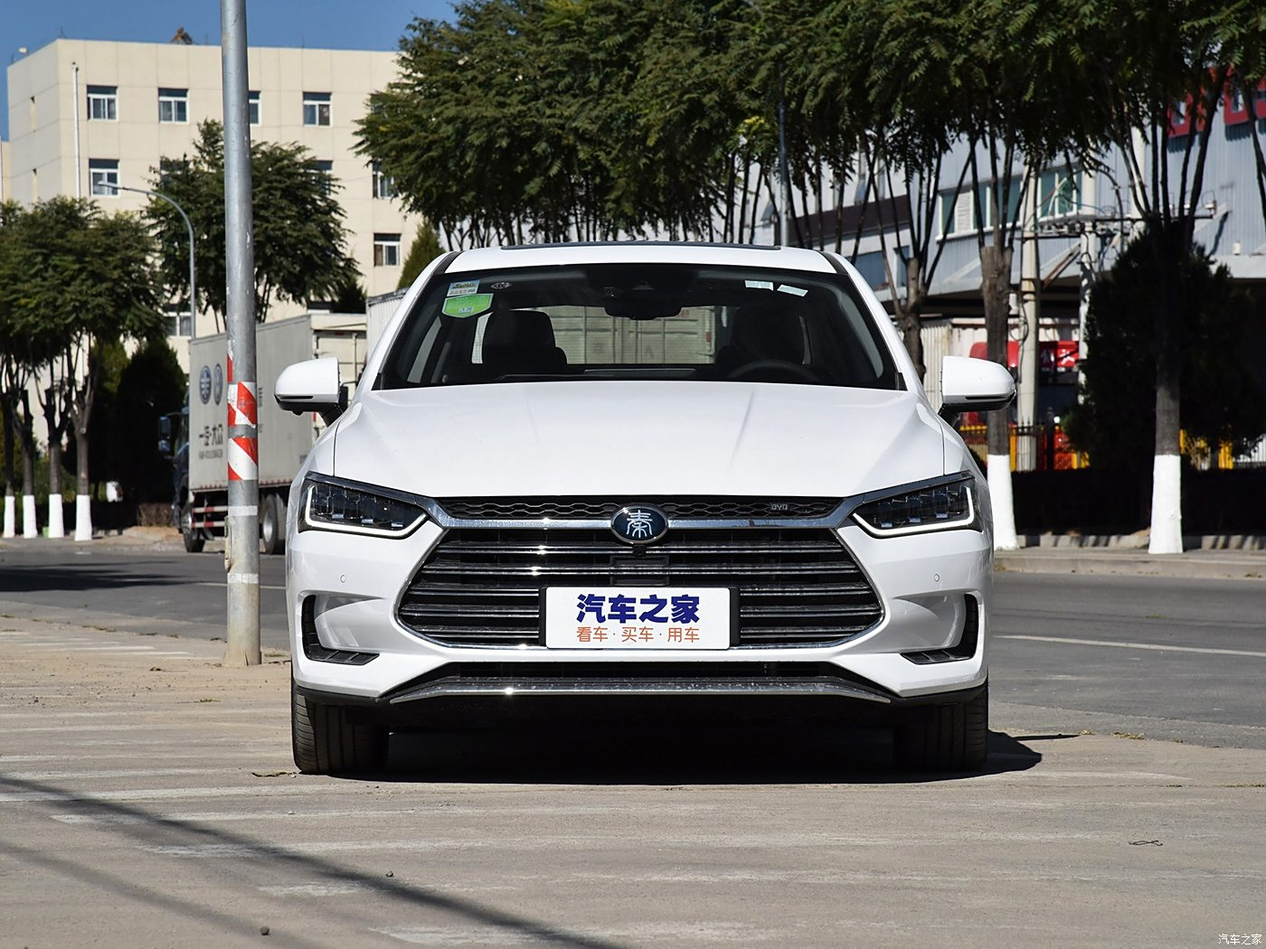BYD Qin: (612, 506, 668, 544)
